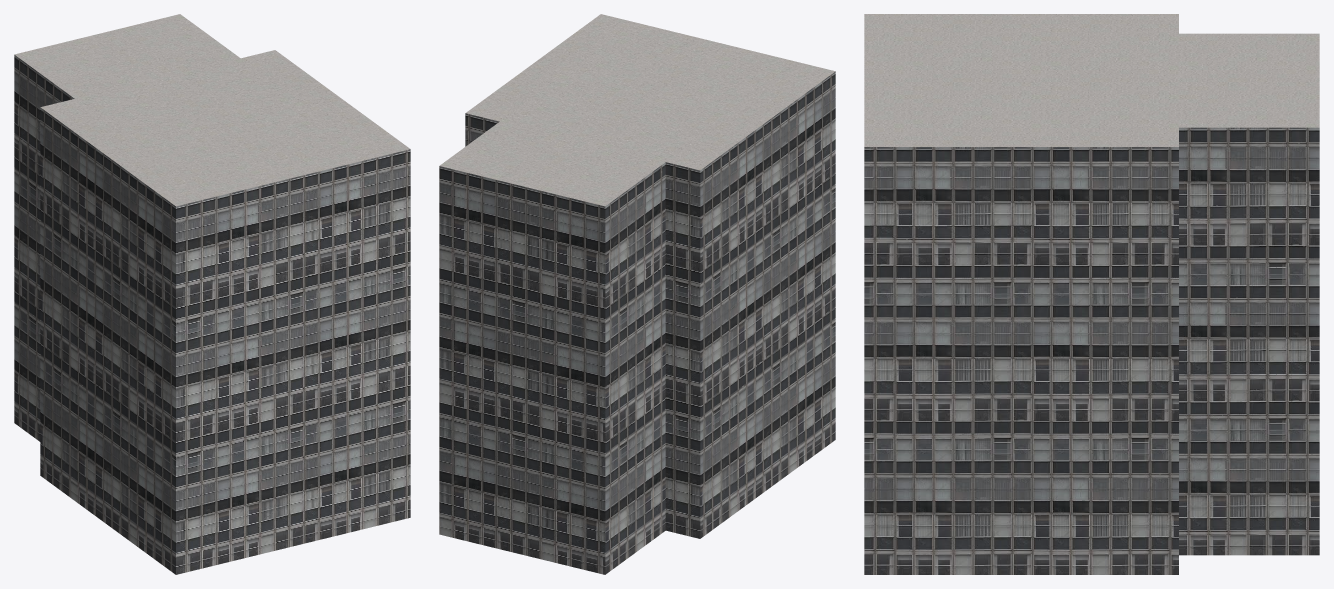
Rendered from building_010_001.glb.
The picture shows the model from 3 angles, left to right: view 1: azimuth 30°, elevation 25°; view 2: azimuth 150°, elevation 25°; view 3: azimuth 270°, elevation 25°; orthographic projection. The views are drawn at different scales.
Visible parts, largest first — view 1: building_010.001; view 2: building_010.001; view 3: building_010.001.
Part boxes in pixels (left/top/right/bottom): building_010.001: left=14, top=14, right=410, bottom=574; building_010.001: left=439, top=14, right=835, bottom=574; building_010.001: left=864, top=14, right=1319, bottom=574.
Size of the model in its own units: 1000 by 1500 by 1447.
2 materials, 2 textured.
